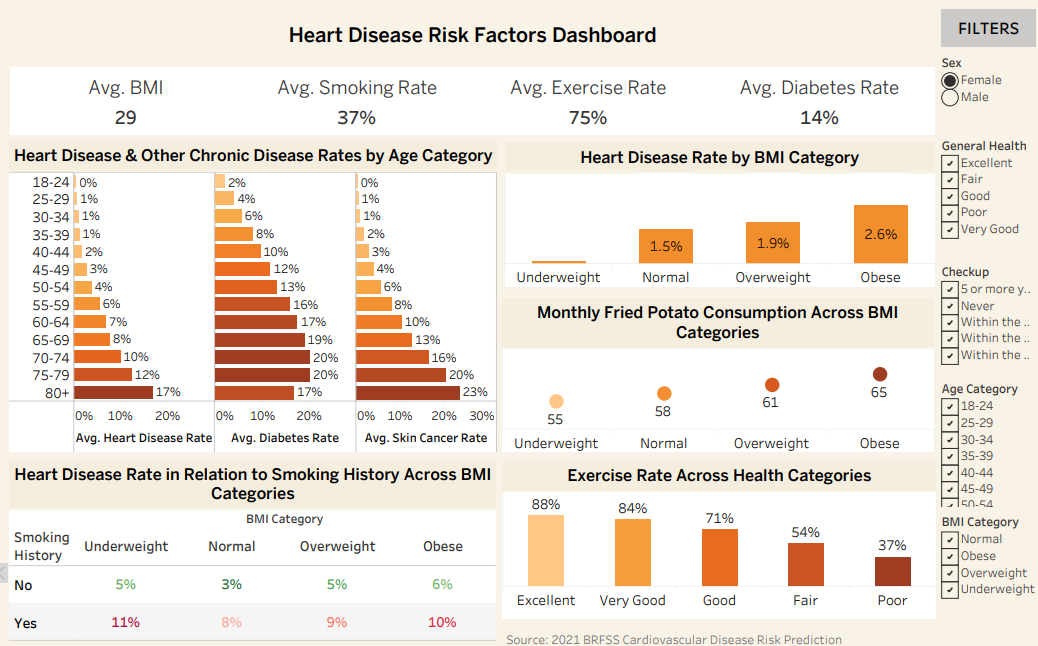

The page's visual inventory and layout, read from the dashboard file:
{"tool":"tableau","page":{"name":"New ","canvas":[1300,810],"ordinal":25},"visuals":[{"type":"title","box":[8,8,1158.7,72]},{"type":"text","box":[1166.7,8,125.3,54.8]},{"type":"filter","title":"*Gender, Exercise, & General Health ","param":"[federated.1j7orzl10dwdjr15xambj0lekh4x].[none:Sex:nk]","box":[1166.7,62.8,125.3,102.8]},{"type":"worksheet","title":"KPIs","mark":"Automatic","box":[8,80,1158.7,92]},{"type":"filter","title":"*Gender, Exercise, & General Health ","param":"[federated.1j7orzl10dwdjr15xambj0lekh4x].[none:General_Health:nk]","box":[1166.7,165.6,125.3,157.4]},{"type":"worksheet","title":"Diseases & Age ","mark":"Bar","rows":["Age_Category"],"cols":["Has_Heart_Disease_Int","Has_Diabetes_Int","Has_Skin_Cancer_Int"],"box":[11,176.2,607,387.8]},{"type":"worksheet","title":"BMI","mark":"Automatic","rows":["Calculation_924363846107439105"],"cols":["Calculation_924363846107439105"],"box":[628,178.2,534,179.2]},{"type":"filter","title":"*Gender, Exercise, & General Health ","param":"[federated.1j7orzl10dwdjr15xambj0lekh4x].[none:Checkup:nk]","box":[1166.7,323,125.3,146]},{"type":"worksheet","title":"BMI and General Health","mark":"Circle","rows":["FriedPotato_Consumption"],"cols":["Calculation_924363846107439105"],"box":[624,371.6,537,191.4]},{"type":"filter","title":"*Gender, Exercise, & General Health ","param":"[federated.1j7orzl10dwdjr15xambj0lekh4x].[none:Age_Category:nk]","box":[1166.7,469,125.3,166]},{"type":"worksheet","title":"Sheet 58","mark":"Automatic","rows":["Smoking_History"],"cols":["Calculation_924363846107439105"],"box":[11,573.1,606,225.8]},{"type":"worksheet","title":"*Gender, Exercise, & General Health ","mark":"Automatic","rows":["Has_Exercise_Int"],"cols":["General_Health"],"box":[625,575,539,196]},{"type":"filter","title":"BMI and General Health","param":"[federated.1j7orzl10dwdjr15xambj0lekh4x].[none:Calculation_924363846107439105:nk","box":[1166.7,635,125.3,167]},{"type":"text","box":[626,781,425,30]}]}

Visuals, with their boxes in screenshot pixels (x1, y1, x2, y2), scaled from the page's 1300x810 canvas onto the 1038x646 screenshot:
title: left=6, top=6, right=932, bottom=64
text: left=932, top=6, right=1032, bottom=50
"*Gender, Exercise, & General Health " filter: left=932, top=50, right=1032, bottom=132
"KPIs" worksheet: left=6, top=64, right=932, bottom=137
"*Gender, Exercise, & General Health " filter: left=932, top=132, right=1032, bottom=258
"Diseases & Age " worksheet (Bar marks): left=9, top=141, right=493, bottom=450
"BMI" worksheet: left=501, top=142, right=928, bottom=285
"*Gender, Exercise, & General Health " filter: left=932, top=258, right=1032, bottom=374
"BMI and General Health" worksheet (Circle marks): left=498, top=296, right=927, bottom=449
"*Gender, Exercise, & General Health " filter: left=932, top=374, right=1032, bottom=506
"Sheet 58" worksheet: left=9, top=457, right=493, bottom=637
"*Gender, Exercise, & General Health " worksheet: left=499, top=459, right=929, bottom=615
"BMI and General Health" filter: left=932, top=506, right=1032, bottom=640
text: left=500, top=623, right=839, bottom=645
